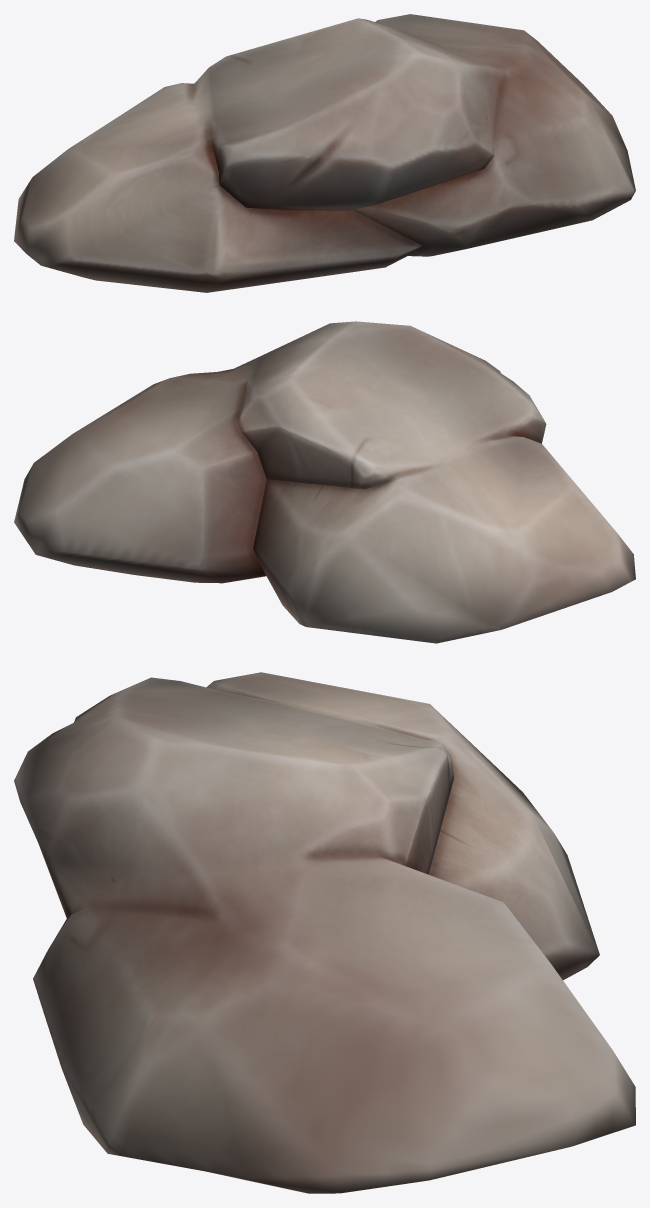
File: SM_Gem_Iron_006.fbx
3 views of the same model, one above another, from view 1: azimuth 30°, elevation 25°; view 2: azimuth 150°, elevation 25°; view 3: azimuth 270°, elevation 25° (orthographic). The views are drawn at different scales.
Visible parts, largest first — view 1: SM_Gem_Iron_006; view 2: SM_Gem_Iron_006; view 3: SM_Gem_Iron_006.
Boxes of the visible parts, x1,y1,x2,y2 form: SM_Gem_Iron_006: (14, 14, 635, 292); SM_Gem_Iron_006: (14, 321, 635, 643); SM_Gem_Iron_006: (14, 672, 635, 1193).
Size of the model in its own units: 59.63 by 18.51 by 36.09.
